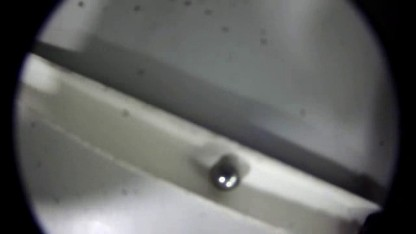gangzhu: (209, 163, 241, 191)
